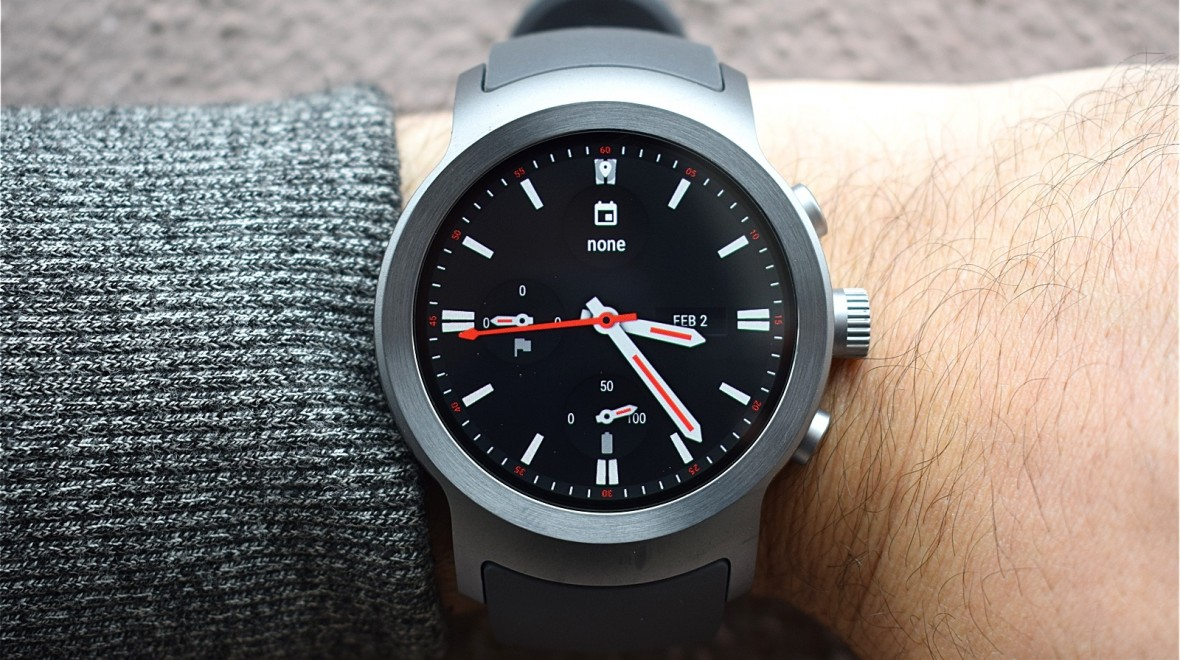clock: (370, 98, 836, 549)
